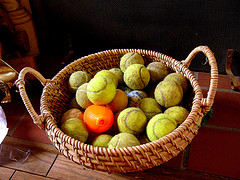tennis ball: (145, 112, 181, 143), (83, 77, 119, 106), (152, 78, 185, 108), (116, 106, 149, 136), (60, 116, 95, 144), (107, 130, 144, 156), (122, 62, 151, 93), (161, 71, 193, 97), (162, 105, 195, 128), (76, 82, 101, 111), (118, 51, 148, 75), (144, 59, 172, 82), (67, 69, 92, 93)
